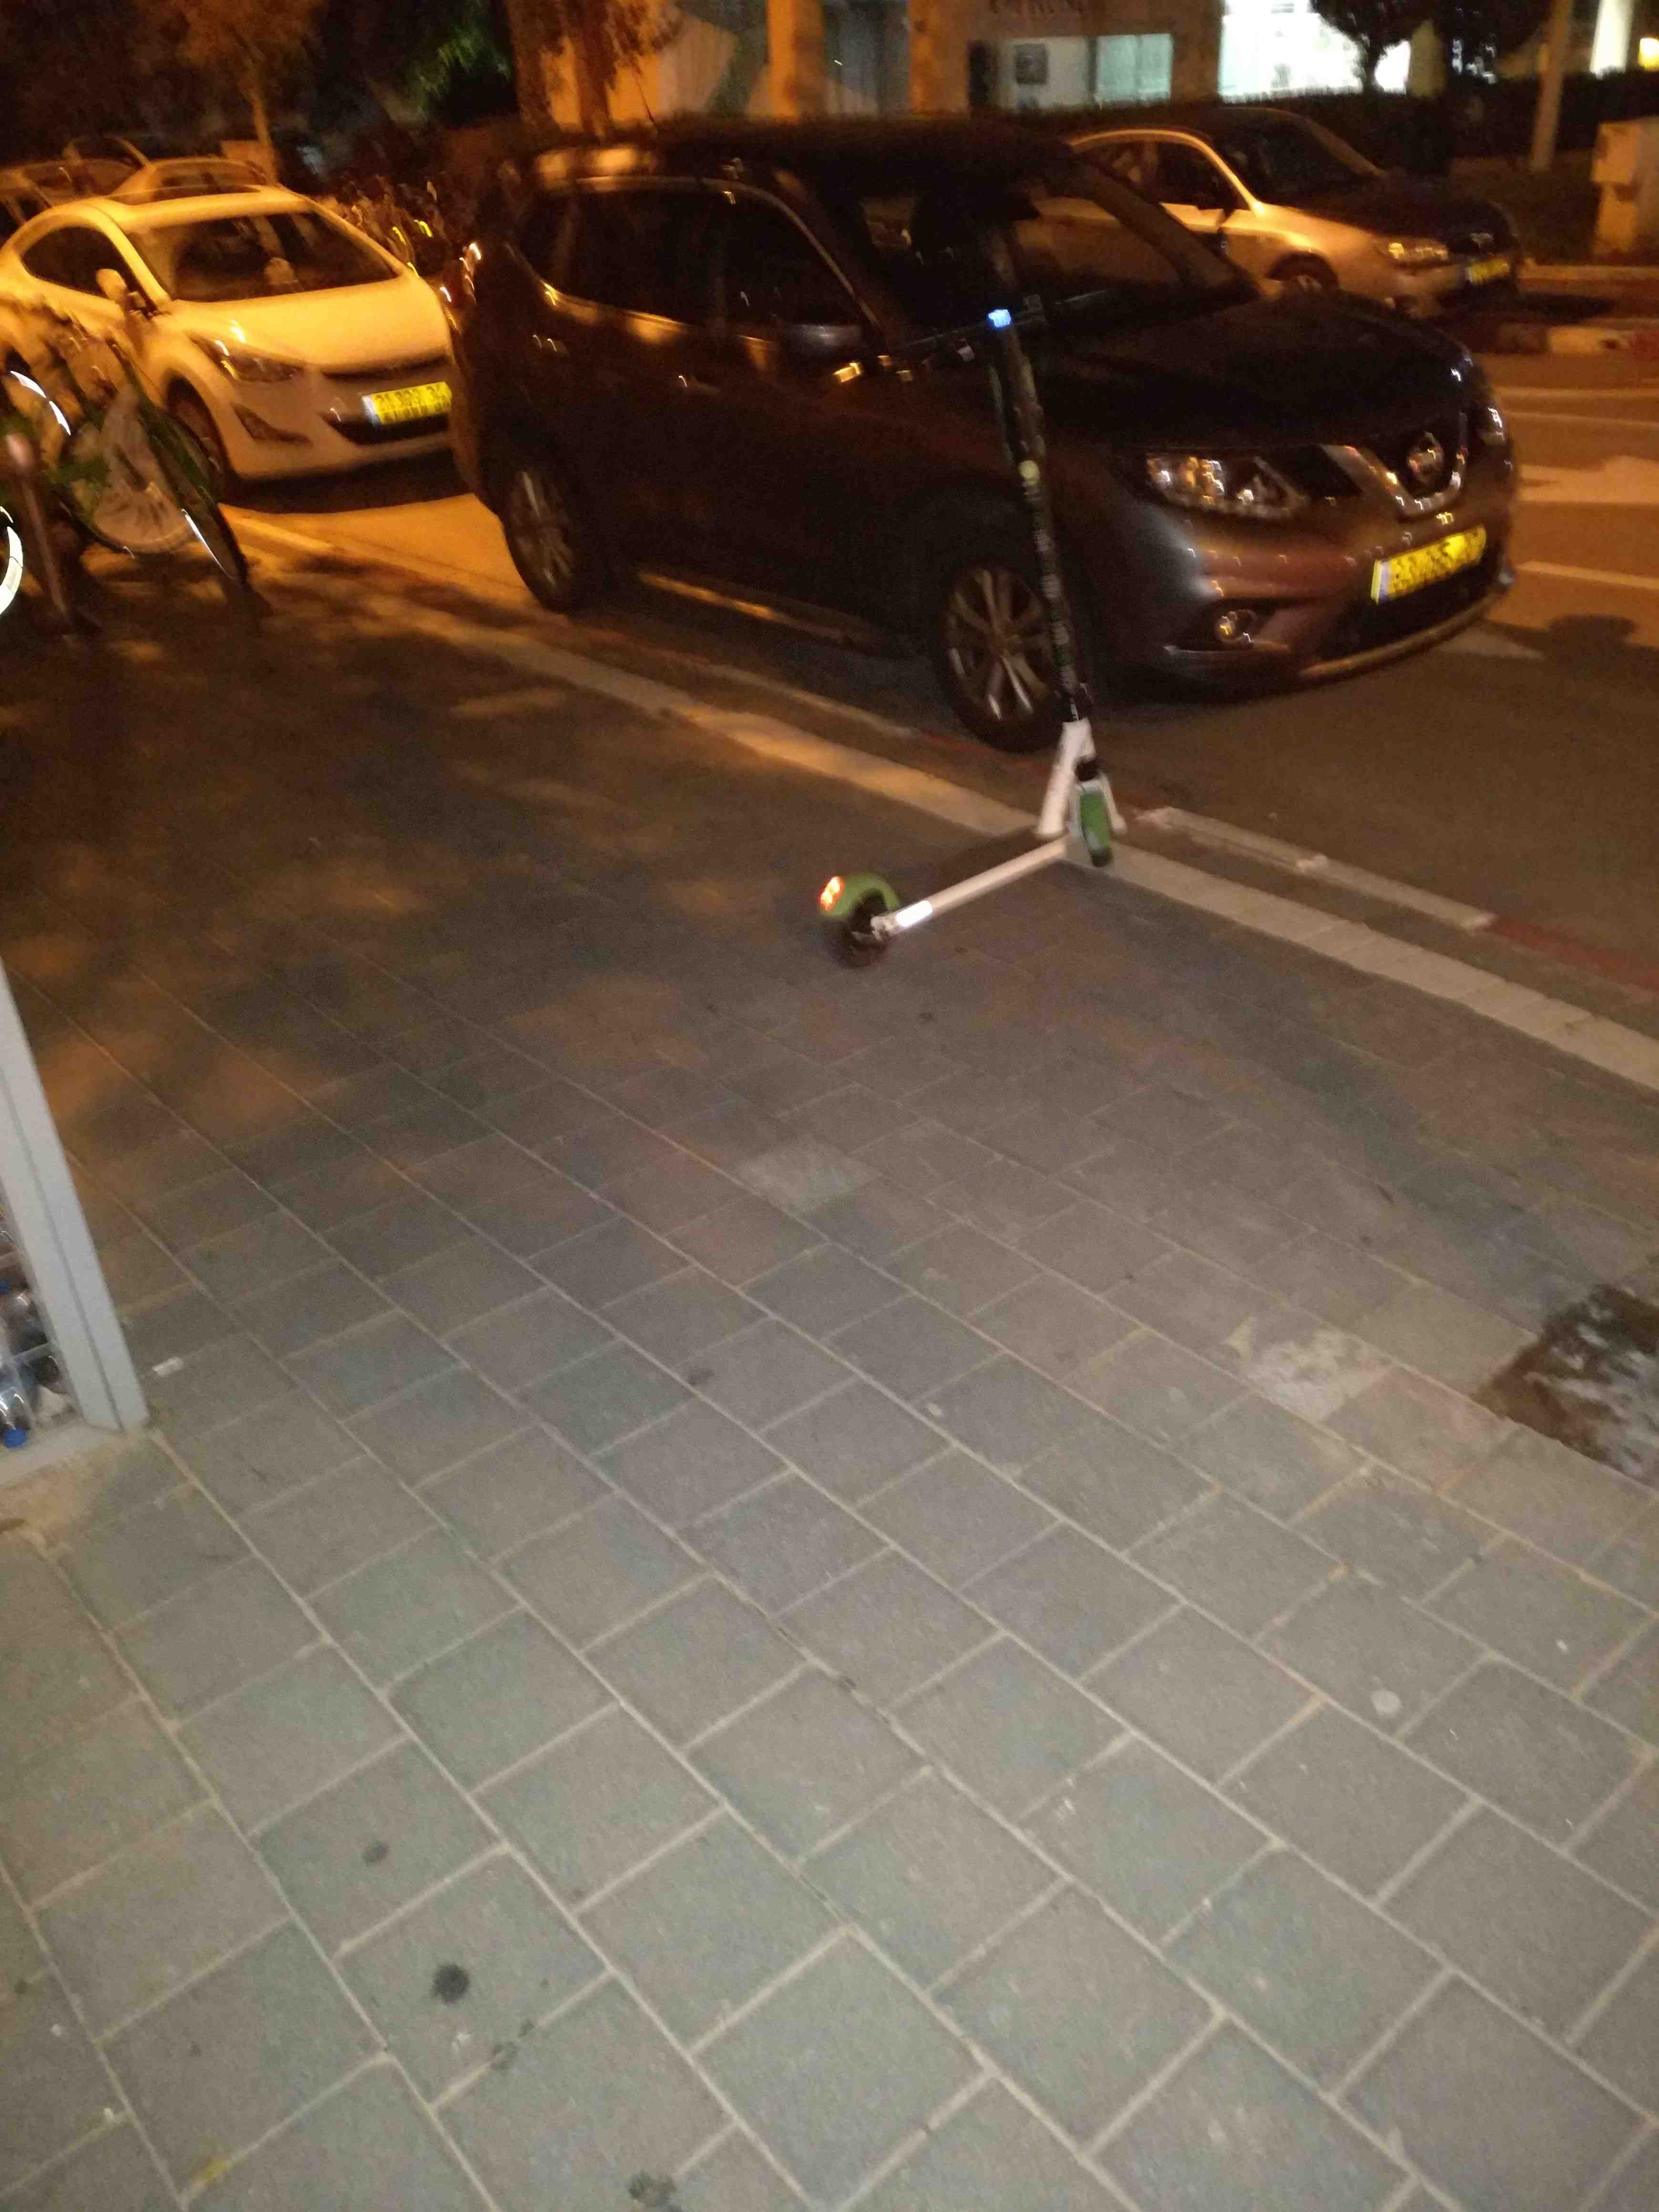too close: (1004, 773, 1195, 911)
